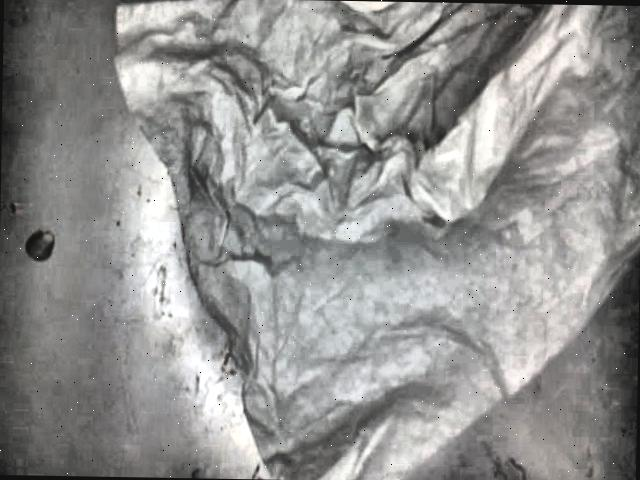Paper: (113, 0, 640, 480)
